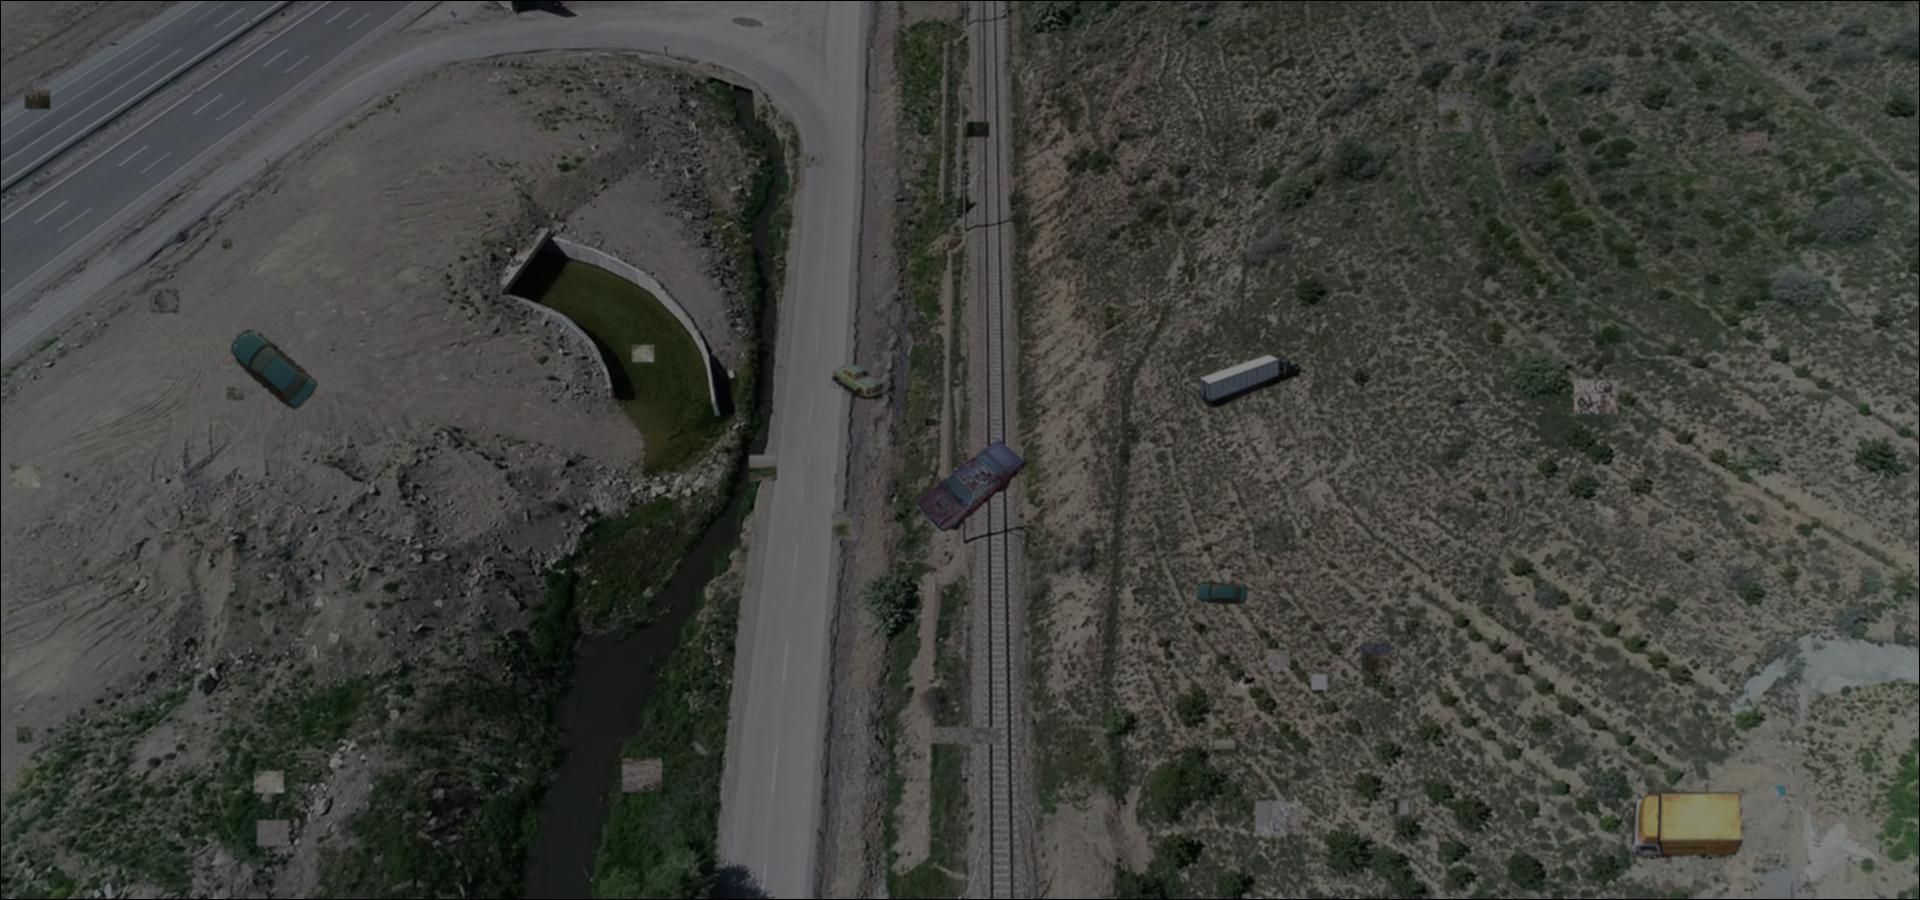arac: (917, 436, 1027, 533), (1631, 791, 1744, 863), (228, 327, 317, 410), (1195, 355, 1302, 407), (831, 364, 887, 399), (1198, 582, 1250, 604)
